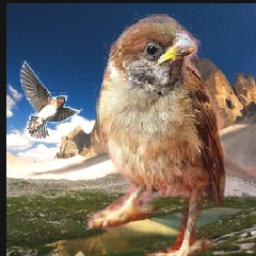Sparrow: (84, 14, 256, 256)
Swallow: (19, 60, 83, 141)
